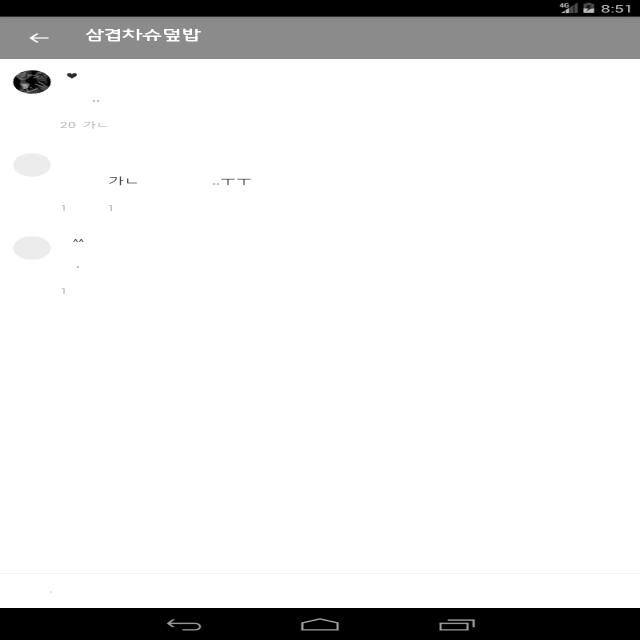ImageButton: (15, 24, 60, 48)
ImageView: (4, 68, 64, 95)
TextView: (69, 21, 231, 51)
